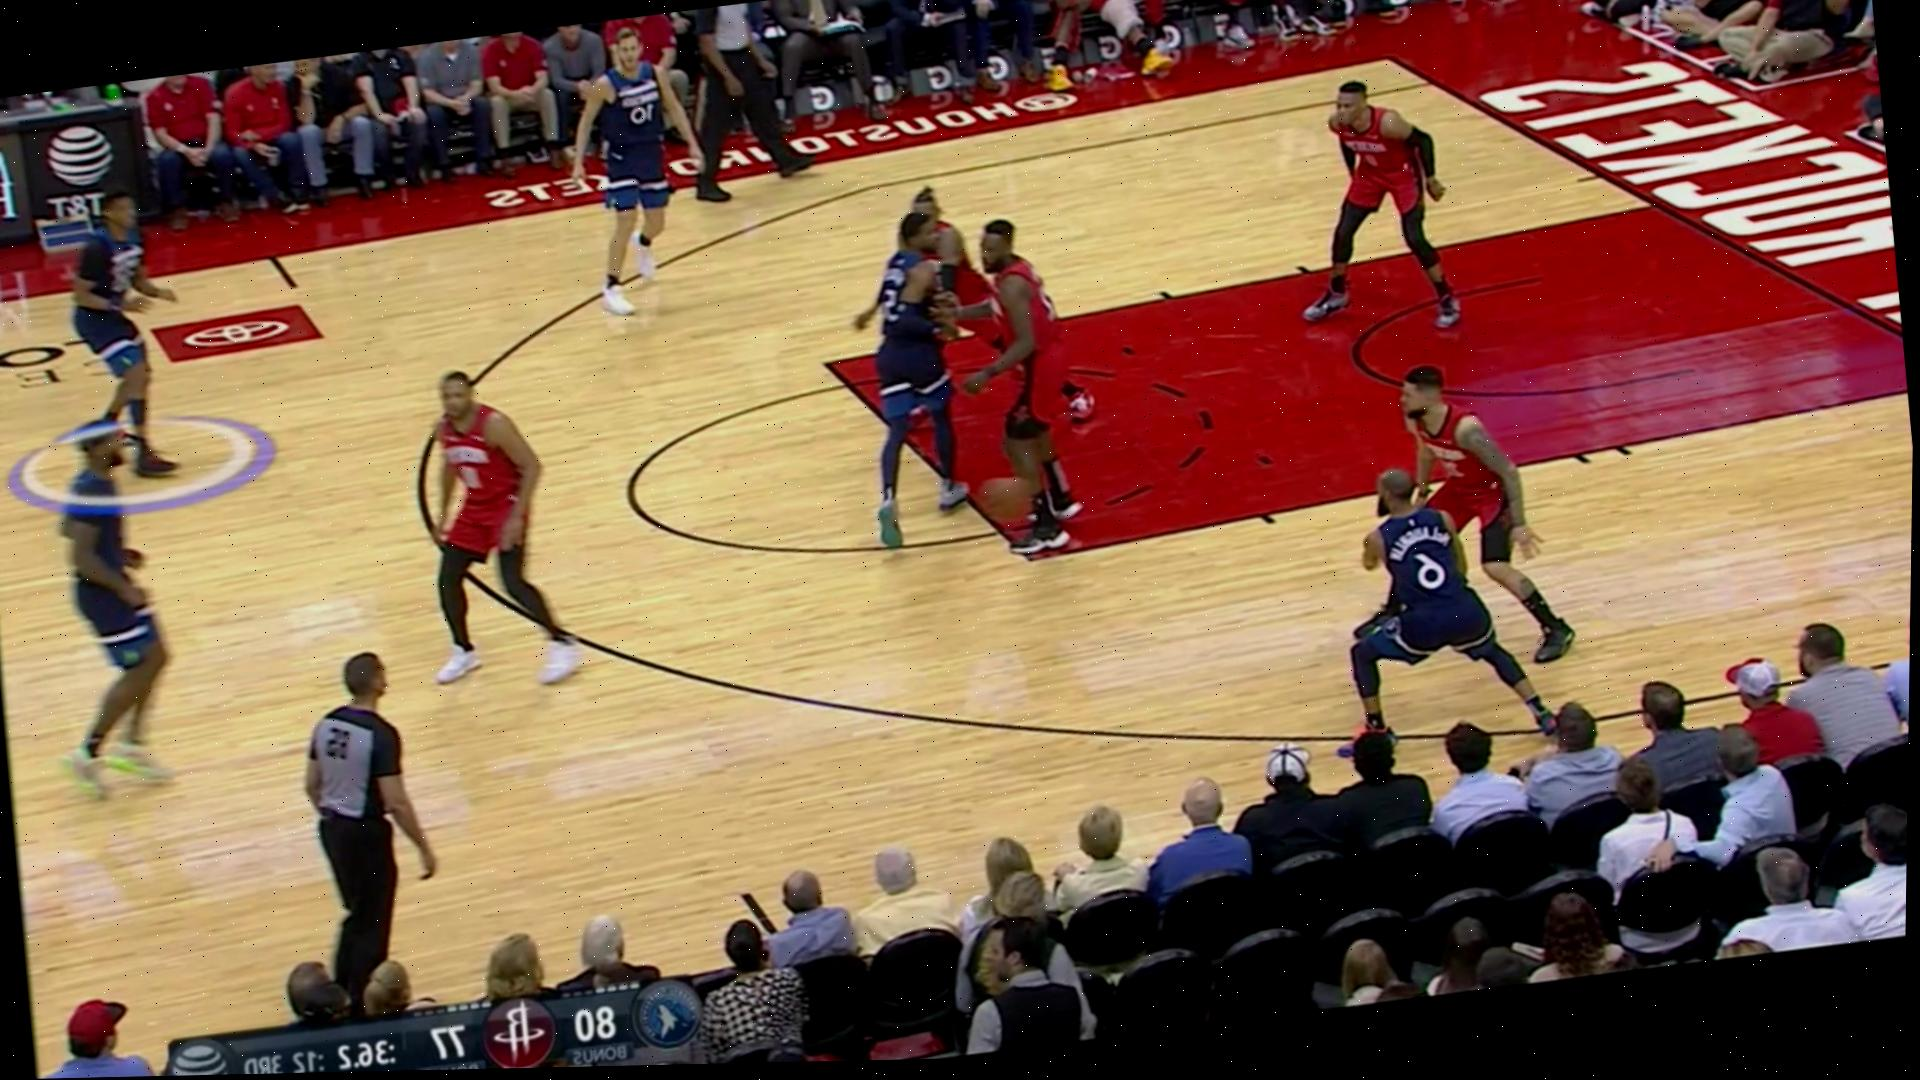no_foul: (820, 194, 1067, 512)
